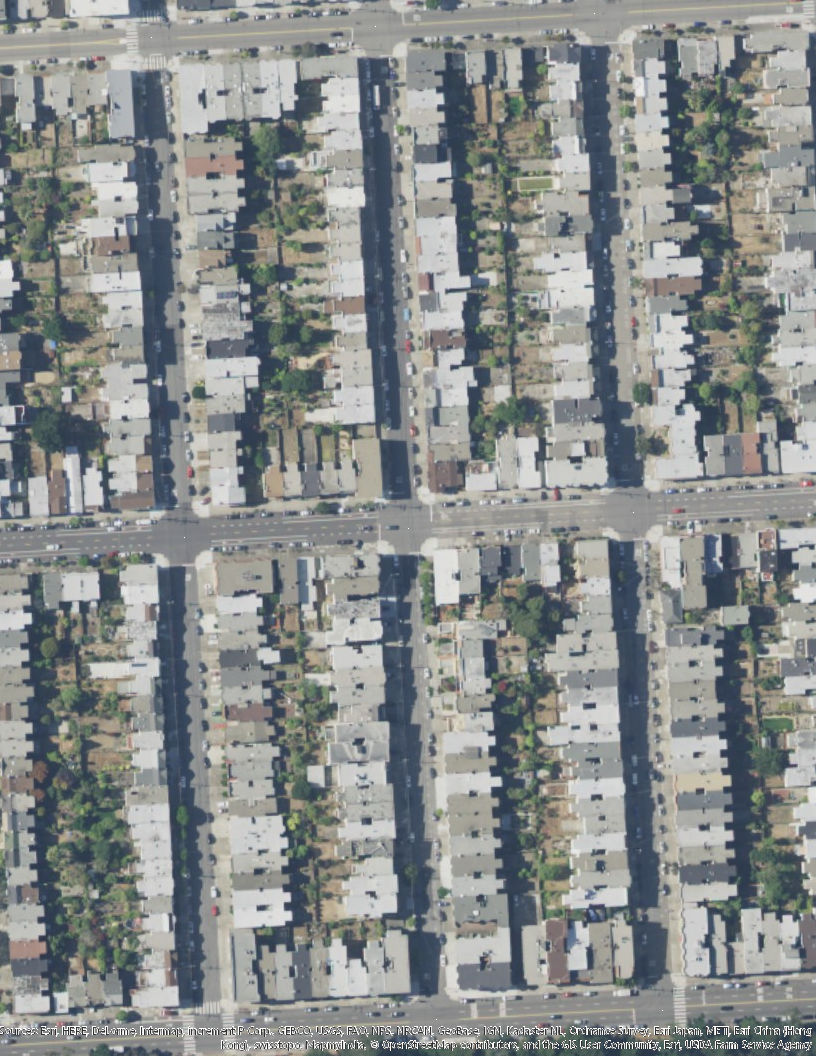zebracross: (671, 987, 688, 1030), (180, 1016, 196, 1052), (221, 1011, 234, 1049), (139, 53, 169, 69), (125, 21, 138, 50), (192, 1001, 220, 1013), (140, 9, 163, 23), (803, 1, 816, 16)
